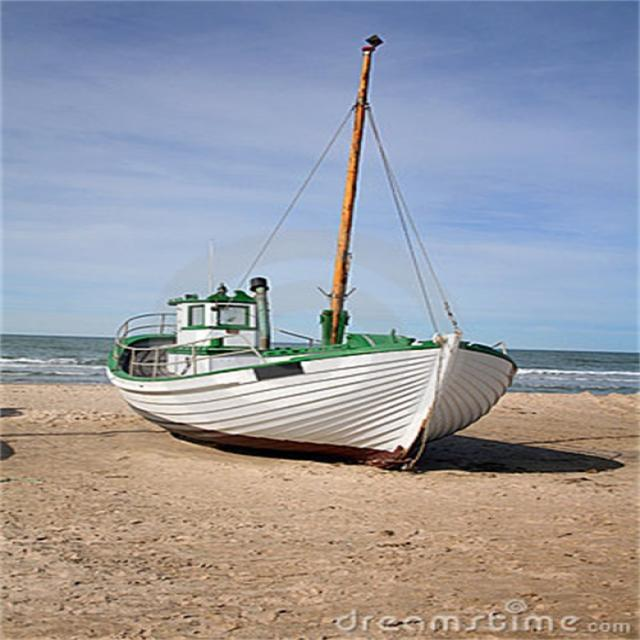Ship: (87, 33, 517, 461)
